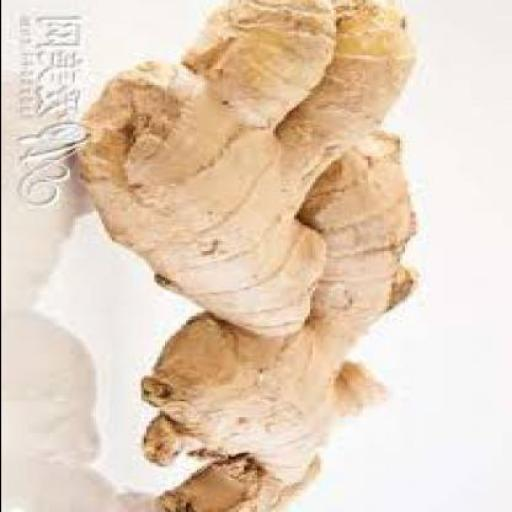biodegradable: (79, 2, 422, 341), (142, 132, 420, 510)
